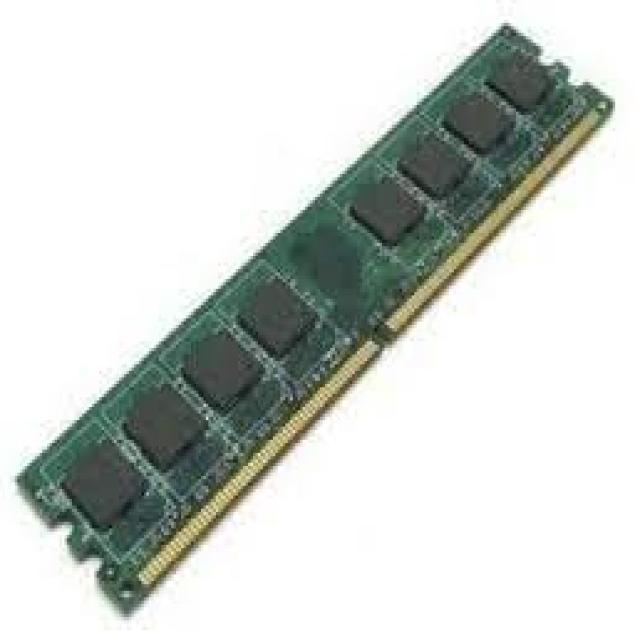Ram: (62, 103, 542, 572)
